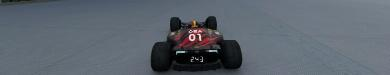Car: (149, 15, 242, 71)
